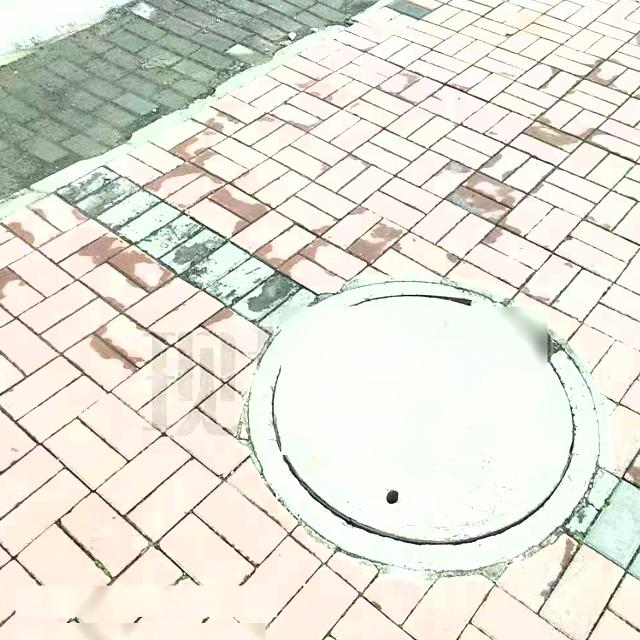circle: (241, 281, 605, 581)
